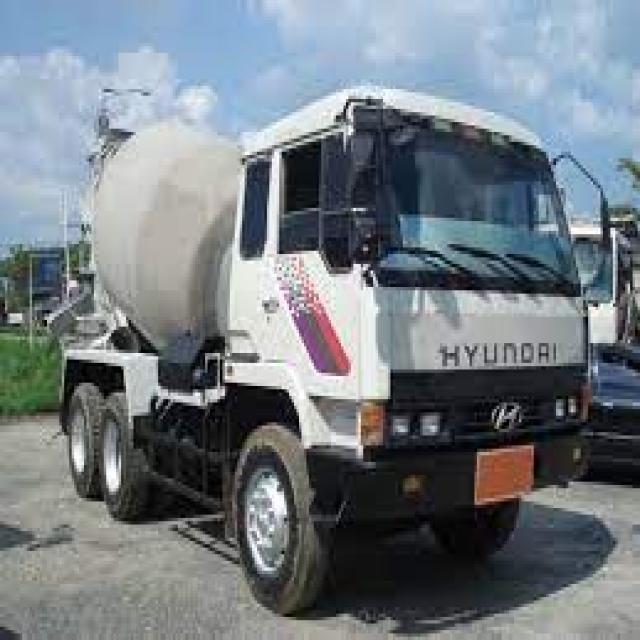Mixer Truck: (37, 74, 609, 618)
